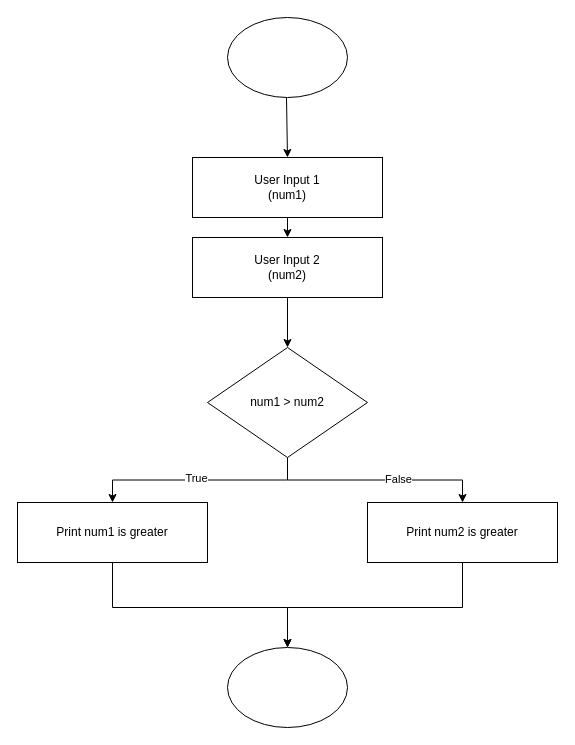
This 575x745 diagram has some shape labels left out. Here are the shapes that lost their labels. From the top down, the box of each, then its label:
(226, 16, 348, 98): Start
(226, 646, 348, 728): End
